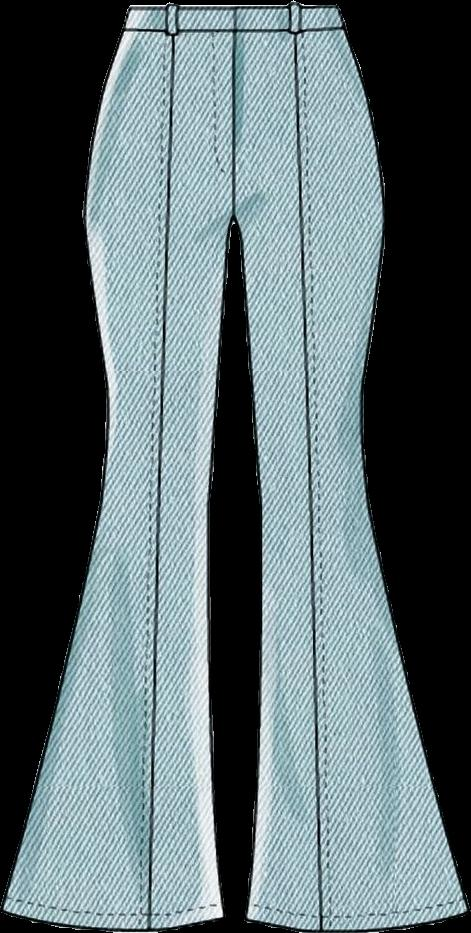Hemline: (244, 900, 470, 932), (0, 903, 229, 932)
Pantleg: (230, 1, 468, 929), (0, 0, 231, 930)
Waistline: (118, 20, 350, 41), (124, 0, 338, 18)
